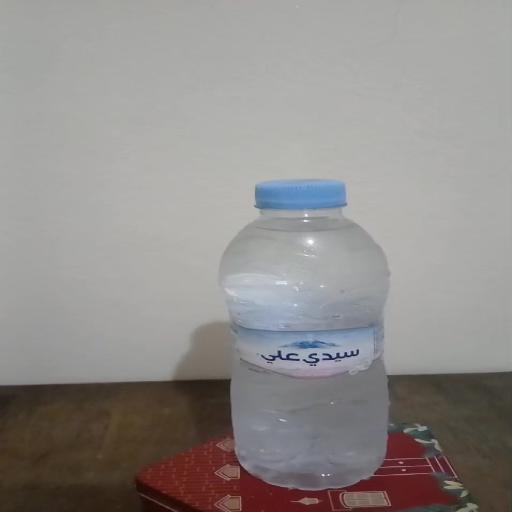bouteille conformite: (219, 167, 390, 490)
